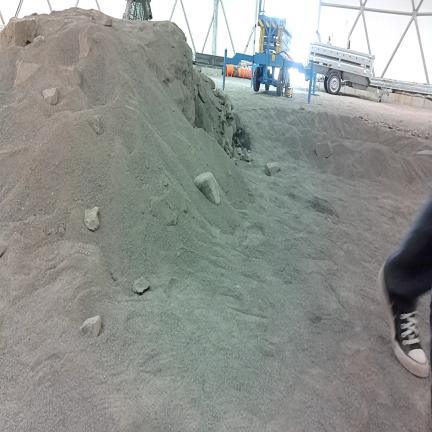Rock: (0, 18, 37, 48), (194, 172, 220, 205), (14, 61, 39, 85), (168, 80, 186, 107), (59, 66, 82, 87), (80, 316, 101, 336), (78, 30, 90, 59), (91, 10, 112, 26), (85, 207, 99, 231), (235, 128, 250, 148), (133, 277, 149, 294), (43, 88, 58, 105), (315, 143, 332, 158), (90, 115, 103, 134), (265, 163, 280, 175), (199, 84, 208, 103), (203, 75, 215, 89), (215, 89, 226, 104), (225, 94, 233, 114), (225, 126, 233, 145), (234, 113, 244, 128), (33, 35, 45, 46), (227, 118, 236, 132), (0, 245, 7, 257), (234, 148, 240, 160), (233, 136, 240, 146), (221, 106, 226, 119), (417, 150, 431, 154), (245, 154, 251, 162), (227, 111, 233, 119), (225, 145, 230, 154), (236, 147, 241, 155), (242, 148, 247, 155), (425, 132, 430, 139), (240, 154, 245, 160), (234, 159, 238, 166), (251, 157, 255, 161), (247, 150, 251, 154), (418, 133, 422, 137), (228, 170, 231, 175), (300, 107, 304, 110)
